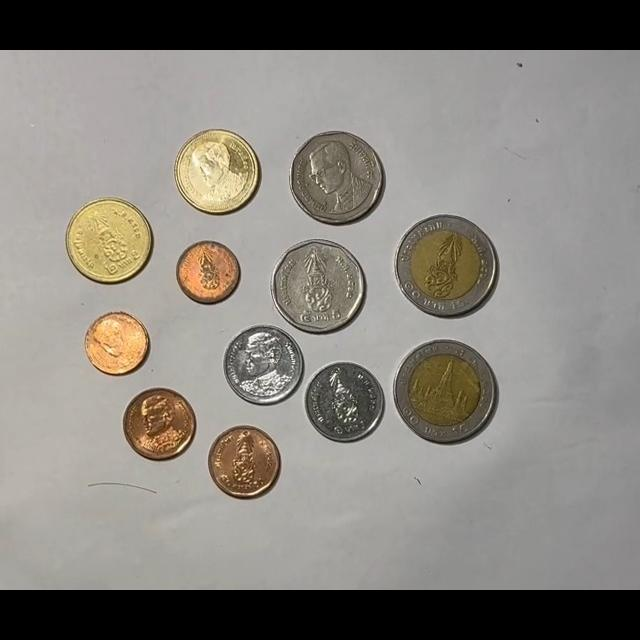1-baht: (303, 361, 385, 443), (223, 324, 304, 404)
10-baht: (393, 339, 498, 444), (394, 214, 498, 317)
2-baht: (164, 128, 266, 218), (66, 198, 152, 285)
25-satang: (84, 311, 150, 376), (176, 240, 241, 304)
5-baht: (271, 239, 367, 334), (290, 130, 385, 224)
50-satang: (123, 387, 196, 460), (208, 425, 281, 498)
